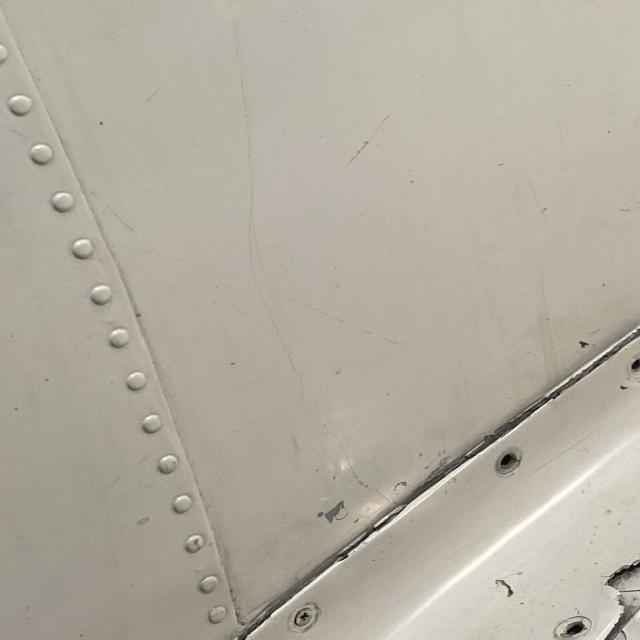Crack: (608, 563, 640, 619)
Missing-head: (555, 617, 592, 640), (493, 450, 522, 476), (630, 353, 640, 380)
Paint-off: (377, 479, 413, 501), (316, 502, 346, 524), (615, 634, 628, 640)
